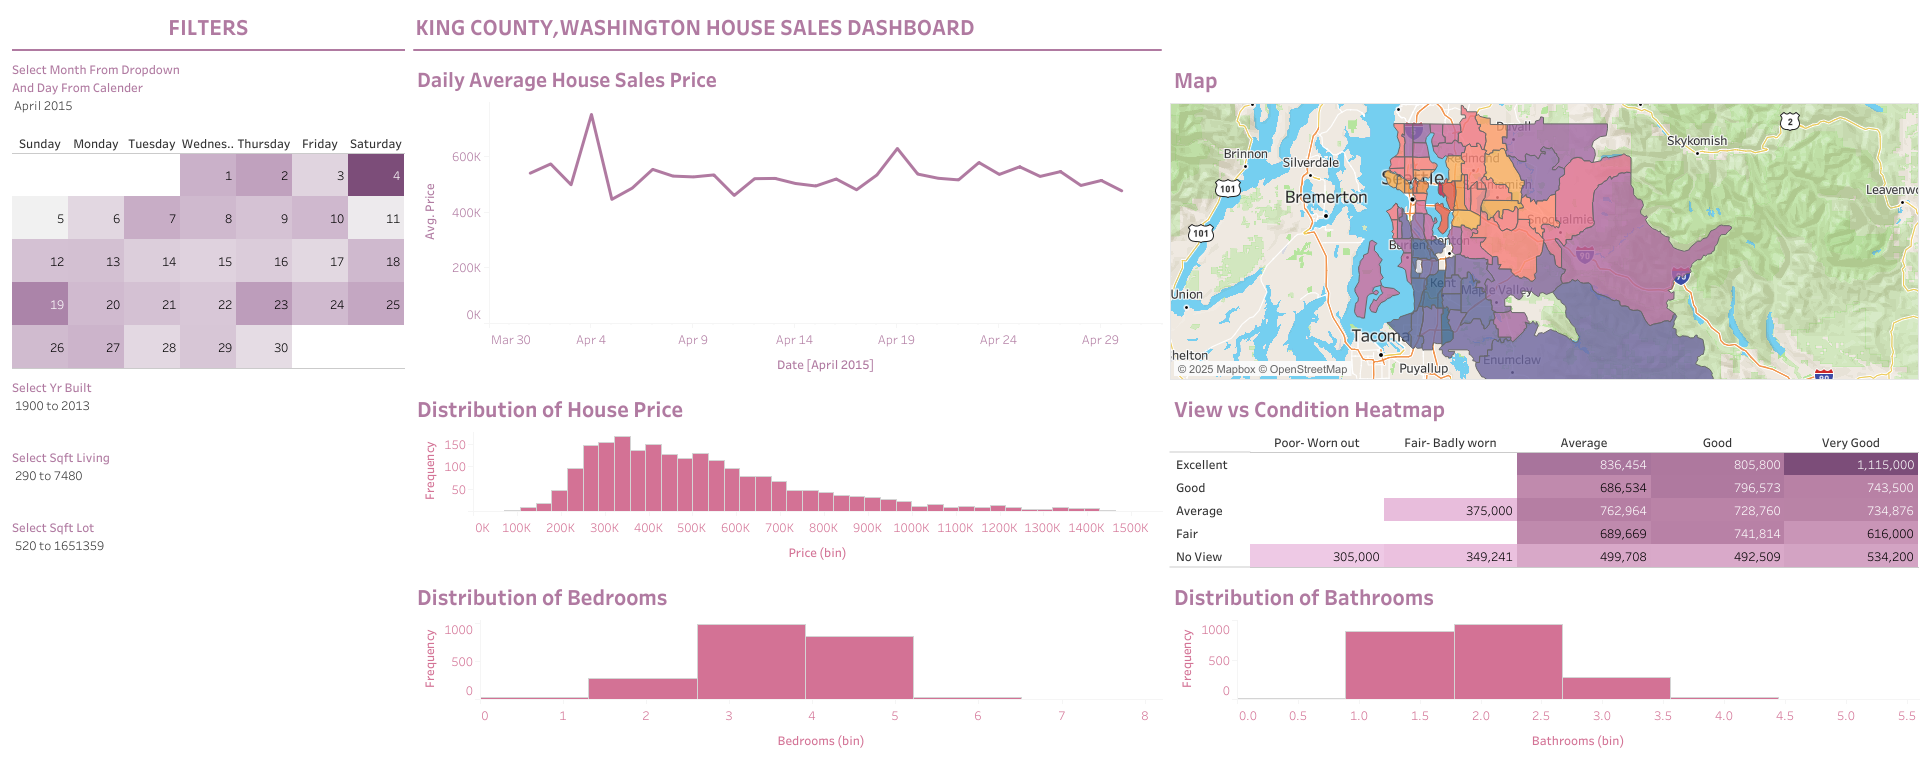

The page's visual inventory and layout, read from the dashboard file:
{"tool":"tableau","page":{"name":"Dashboard 1","canvas":[1000,1000],"units":"permille","ordinal":0},"visuals":[{"type":"text","box":[4.6,10.4,207.7,48.2]},{"type":"text","box":[212.3,10.4,391.6,48.2]},{"type":"blank","box":[4.6,58.6,207.7,13]},{"type":"blank","box":[212.3,58.6,391.6,13]},{"type":"filter","title":"Calender","param":"[federated.1m6yd6w1yla6wq1cl51b80t7b40b].[my:date:ok]","box":[4.6,71.6,207.7,96.4]},{"type":"worksheet","title":"LineChart","mark":"Automatic","rows":["price"],"cols":["date"],"box":[212.3,71.6,391.6,428.4]},{"type":"worksheet","title":"Map","mark":"Automatic","box":[603.9,71.6,391.6,428.4]},{"type":"worksheet","title":"Calender","mark":"Square","rows":["date"],"cols":["date"],"box":[4.6,168,207.7,317.7]},{"type":"filter","title":"Calender","param":"[federated.1m6yd6w1yla6wq1cl51b80t7b40b].[none:yr_built:qk]","box":[4.6,485.7,207.7,91.2]},{"type":"worksheet","title":"HisHousePrice","mark":"Automatic","rows":["price"],"cols":["Price (bin)"],"box":[212.3,500,391.6,244.8]},{"type":"worksheet","title":"Heatmap","mark":"Square","rows":["view"],"cols":["condition"],"box":[603.9,500,391.6,244.8]},{"type":"filter","title":"Calender","param":"[federated.1m6yd6w1yla6wq1cl51b80t7b40b].[none:sqft_living:qk]","box":[4.6,576.8,207.7,91.2]},{"type":"filter","title":"Calender","param":"[federated.1m6yd6w1yla6wq1cl51b80t7b40b].[none:sqft_lot:qk]","box":[4.6,668,207.7,91.2]},{"type":"worksheet","title":"HisBedroom","mark":"Automatic","rows":["bedrooms"],"cols":["Bedrooms (bin)"],"box":[212.3,744.8,391.6,244.8]},{"type":"worksheet","title":"HisBathrooms","mark":"Automatic","rows":["bathrooms"],"cols":["Bathrooms (bin)"],"box":[603.9,744.8,391.6,244.8]}]}

Visuals, with their boxes on the dashboard's canvas, which has no fixed pixel size, in thousandths of its width and height (x1, y1, x2, y2). These are canvas units, not pixel positions in the 1930x767 screenshot, which may show the page scaled, cropped or inside an application window:
text: {"x1": 5, "y1": 10, "x2": 212, "y2": 59}
text: {"x1": 212, "y1": 10, "x2": 604, "y2": 59}
blank: {"x1": 5, "y1": 59, "x2": 212, "y2": 72}
blank: {"x1": 212, "y1": 59, "x2": 604, "y2": 72}
"Calender" filter: {"x1": 5, "y1": 72, "x2": 212, "y2": 168}
"LineChart" worksheet: {"x1": 212, "y1": 72, "x2": 604, "y2": 500}
"Map" worksheet: {"x1": 604, "y1": 72, "x2": 996, "y2": 500}
"Calender" worksheet (Square marks): {"x1": 5, "y1": 168, "x2": 212, "y2": 486}
"Calender" filter: {"x1": 5, "y1": 486, "x2": 212, "y2": 577}
"HisHousePrice" worksheet: {"x1": 212, "y1": 500, "x2": 604, "y2": 745}
"Heatmap" worksheet (Square marks): {"x1": 604, "y1": 500, "x2": 996, "y2": 745}
"Calender" filter: {"x1": 5, "y1": 577, "x2": 212, "y2": 668}
"Calender" filter: {"x1": 5, "y1": 668, "x2": 212, "y2": 759}
"HisBedroom" worksheet: {"x1": 212, "y1": 745, "x2": 604, "y2": 990}
"HisBathrooms" worksheet: {"x1": 604, "y1": 745, "x2": 996, "y2": 990}
